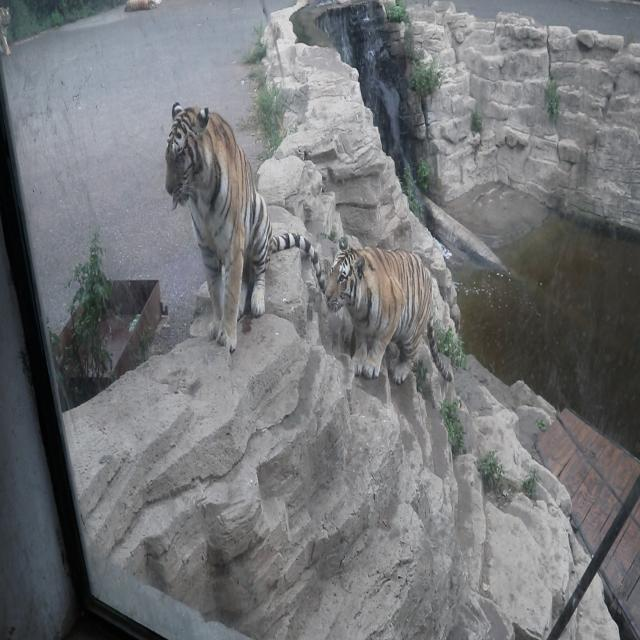Tiger: (155, 91, 306, 363), (317, 214, 479, 408), (0, 4, 11, 60)
